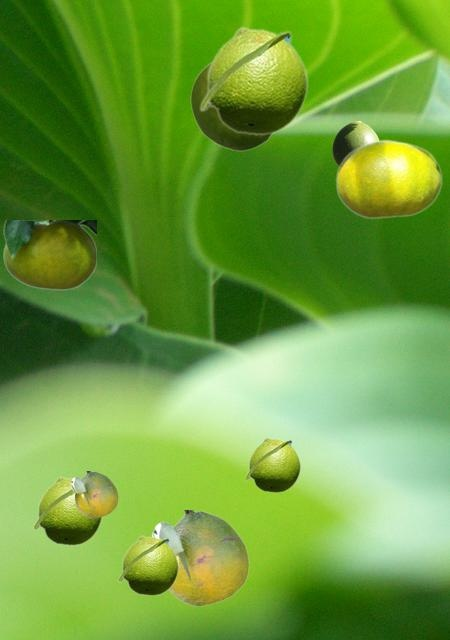dalandan: (198, 26, 308, 135), (151, 510, 248, 605), (335, 139, 441, 218), (190, 62, 271, 150), (3, 220, 95, 289), (32, 476, 102, 545), (117, 535, 178, 595), (244, 437, 300, 492), (70, 471, 117, 517), (332, 121, 379, 165)
